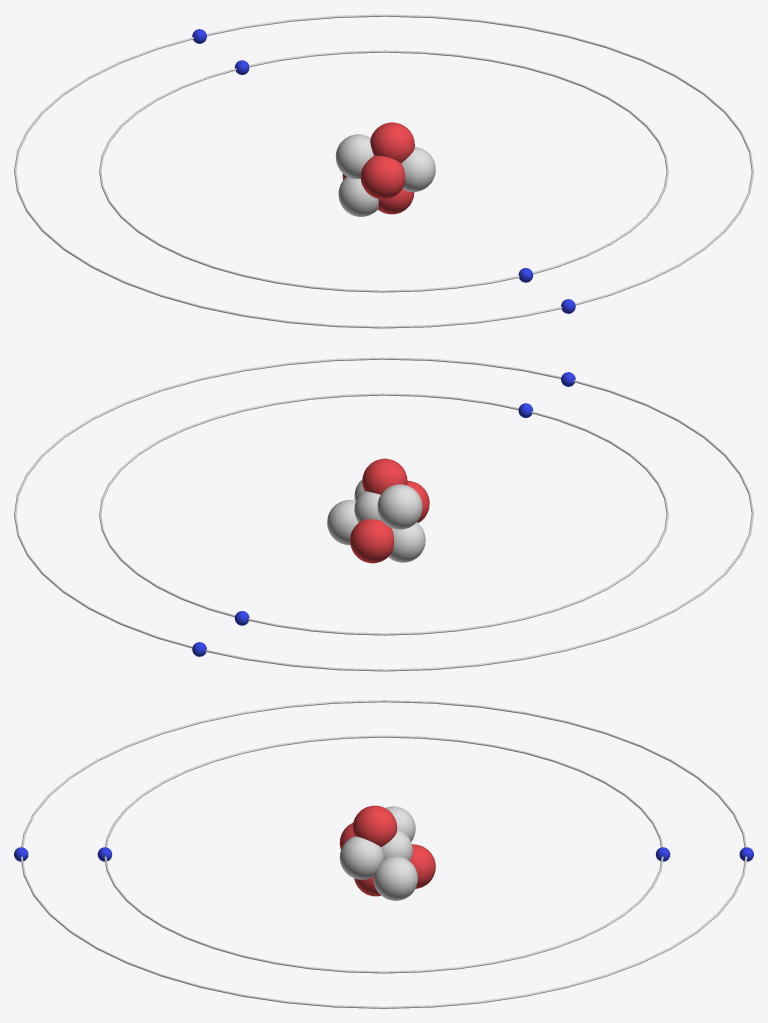
The model's file is Beryllium.glb.
3 views of the same model, one above another, from view 1: azimuth 30°, elevation 25°; view 2: azimuth 150°, elevation 25°; view 3: azimuth 270°, elevation 25° (orthographic).
Visible parts, largest first — view 1: L-Schale, K-Schale, Proton 1, Proton 2, Neutron 2, Neutron 4, Neutron 3, Proton 3; view 2: L-Schale, K-Schale, Neutron 2, Proton 4, Proton 2, Neutron 3, Neutron 5, Neutron 1; view 3: L-Schale, K-Schale, Neutron 5, Neutron 4, Proton 2, Proton 4, Neutron 1, Neutron 2.
Part boxes in pixels (x1,y1,x2,y2): L-Schale: [14, 14, 753, 328]; K-Schale: [99, 50, 668, 292]; Proton 1: [360, 155, 405, 199]; Proton 2: [370, 122, 414, 162]; Neutron 2: [335, 134, 373, 178]; Neutron 4: [401, 147, 435, 191]; Neutron 3: [338, 176, 378, 216]; Proton 3: [378, 189, 414, 214]; L-Schale: [14, 357, 753, 671]; K-Schale: [99, 393, 668, 635]; Neutron 2: [377, 484, 422, 529]; Proton 4: [350, 519, 394, 563]; Proton 2: [362, 458, 407, 494]; Neutron 3: [388, 522, 425, 562]; Neutron 5: [327, 500, 358, 545]; Neutron 1: [354, 491, 381, 522]; L-Schale: [20, 700, 747, 1008]; K-Schale: [104, 735, 663, 973]; Neutron 5: [373, 856, 417, 900]; Neutron 4: [339, 836, 383, 879]; Proton 2: [352, 805, 397, 846]; Proton 4: [410, 844, 435, 888]; Neutron 1: [381, 829, 412, 860]; Neutron 2: [385, 806, 415, 841].
Size of the model in its own units: 13.04 by 1.73 by 13.26.
